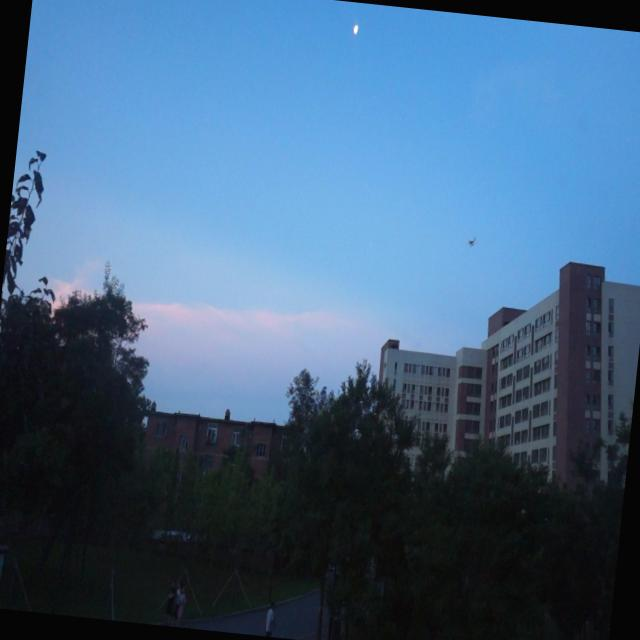drone: (464, 232, 478, 252)
